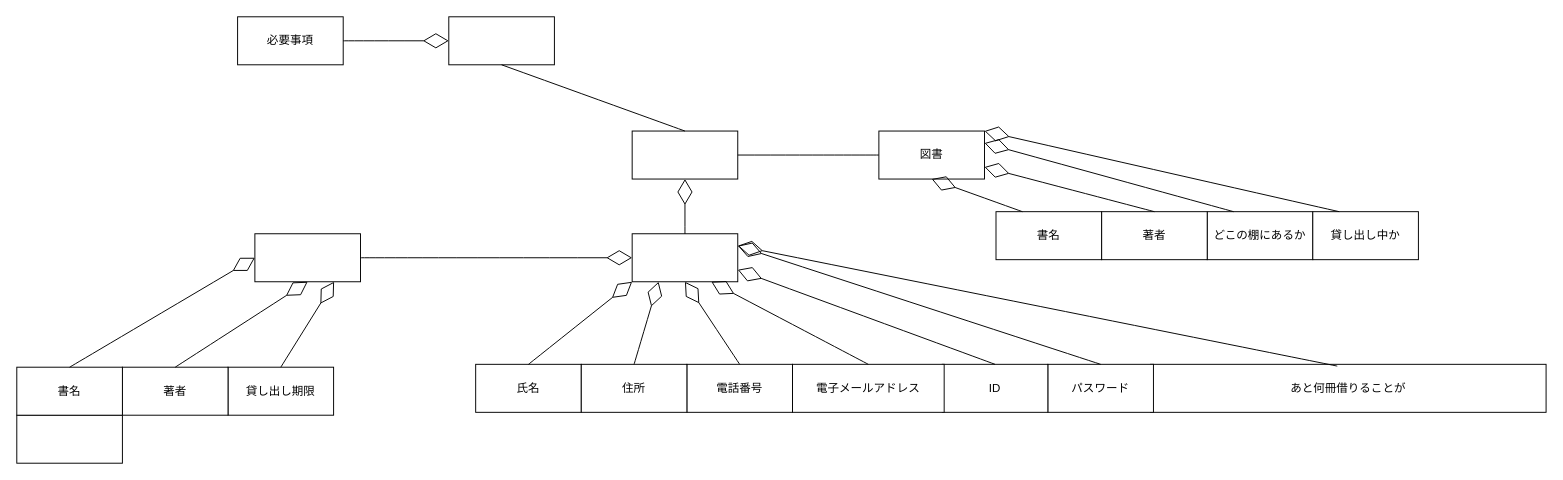
This 1563x480 diagram has some shape labels left out. Each missing label, with the centre of its shape:
"※本のID" belongs at point 69,438.
"借りている本" belongs at point 307,257.
"利用者" belongs at point 684,154.
"図書カード" belongs at point 684,257.
"貸し出し予約" belongs at point 501,40.
